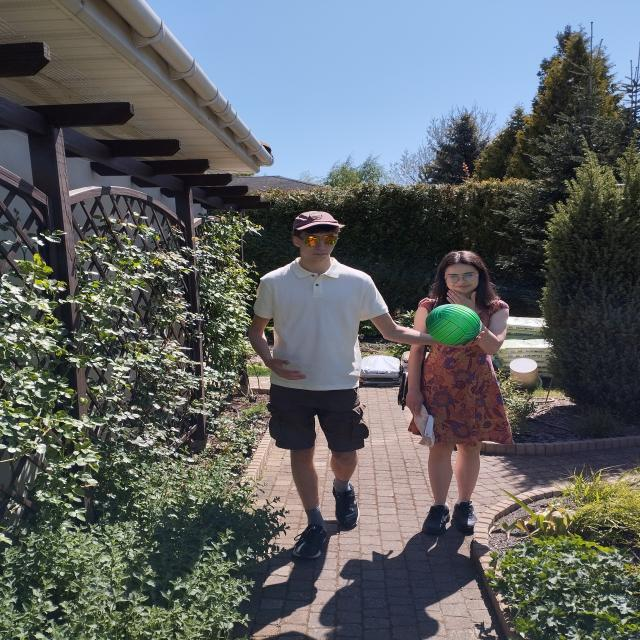zielona: (425, 304, 480, 345)
